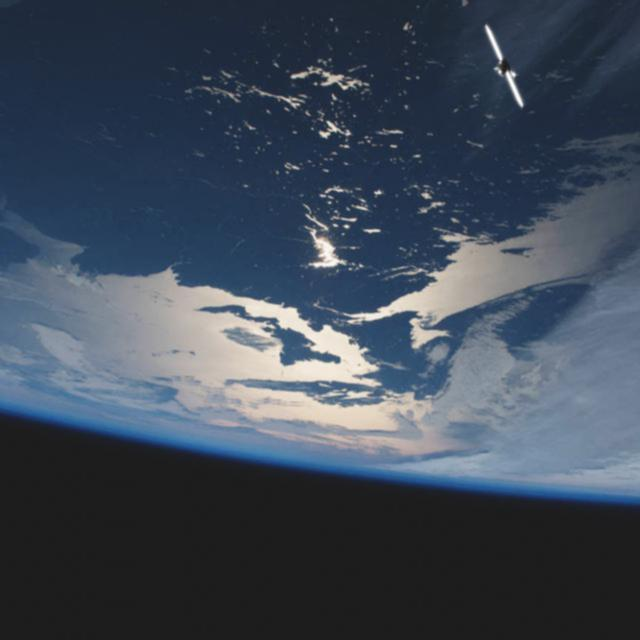satellite: (476, 9, 535, 116)
